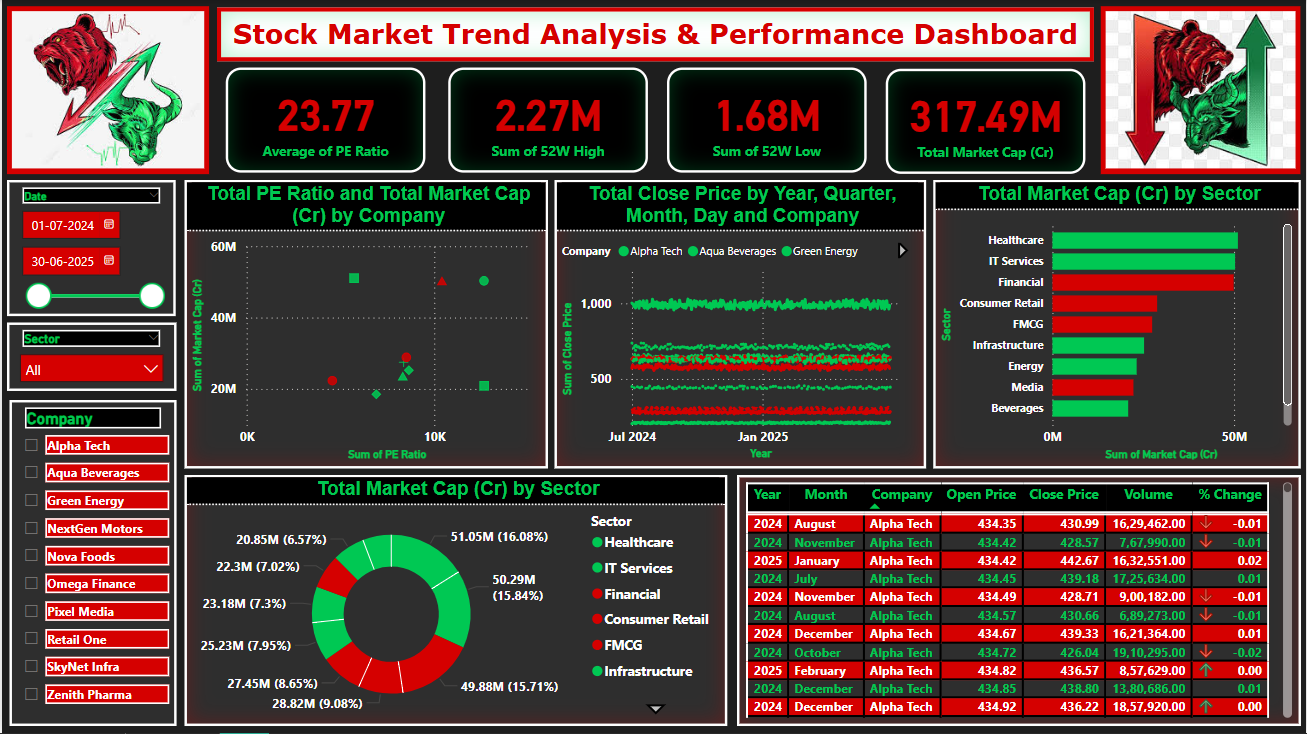

Layout of this report page (visuals, bound fields, positions):
{"tool":"powerbi","page":{"name":"Page 1","canvas":[1280,720],"ordinal":0},"visuals":[{"type":"lineChart","title":"Total Close Price by Year, Quarter, Month, Day and Company","fields":{"Y":["Sum(Stockmarket.Close Price)"],"Series":["Stockmarket.Company"],"Category":["Stockmarket.Date.Variation.Date Hierarchy.Year","Stockmarket.Date.Variation.Date Hierarchy.Quarter","Stockmarket.Date.Variation.Date Hierarchy.Month","Stockmarket.Date.Variation.Date Hierarchy.Day"]},"box":[542.3,176.7,364.4,283.4],"z":0},{"type":"clusteredBarChart","title":"Total Market Cap (Cr) by Sector","fields":{"Category":["Stockmarket.Sector"],"Y":["Sum(Stockmarket.Market Cap (Cr))"]},"box":[914.1,176.7,360.7,283.4],"z":1000},{"type":"tableEx","fields":{"Values":["Stockmarket.Date.Variation.Date Hierarchy.Year","Stockmarket.Date.Variation.Date Hierarchy.Month","Stockmarket.Company","Stockmarket.Open Price","Stockmarket.Close Price","Stockmarket.Volume","Stockmarket.% Change"]},"box":[721.5,466.3,553.4,246.6],"z":2000},{"type":"card","fields":{"Values":["Avg(Stockmarket.PE Ratio)"]},"box":[219.6,66.3,196.3,103.1],"z":4000},{"type":"donutChart","fields":{"Y":["Sum(Stockmarket.Market Cap (Cr))"],"Category":["Stockmarket.Sector"]},"box":[179.1,466.3,532.5,246.6],"z":7000},{"type":"scatterChart","title":"Total PE Ratio and Total  Market Cap (Cr) by Company","fields":{"X":["Sum(Stockmarket.PE Ratio)"],"Y":["Sum(Stockmarket.Market Cap (Cr))"],"Category":["Stockmarket.Company"]},"box":[179.1,176.7,357.1,283.4],"z":8000},{"type":"slicer","fields":{"Values":["Stockmarket.Company"]},"box":[7.4,392.6,164,320],"z":9000},{"type":"slicer","fields":{"Values":["Stockmarket.Sector"]},"box":[5,317,166,67],"z":10000},{"type":"slicer","fields":{"Values":["Stockmarket.Date"]},"box":[4.9,176.7,165.6,133.7],"z":11000},{"type":"image","box":[1078.5,6.1,196.3,164.4],"z":12000},{"type":"image","box":[4.9,6.1,198.8,164.4],"z":13000},{"type":"textbox","box":[211,7,861,52.8],"z":14000},{"type":"card","fields":{"Values":["Sum(Stockmarket.52W High)"]},"box":[438,66.3,196,103],"z":14003},{"type":"card","fields":{"Values":["Sum(Stockmarket.52W Low)"]},"box":[652.8,66.3,196.3,103.1],"z":14004},{"type":"card","fields":{"Values":["Sum(Stockmarket.Market Cap (Cr))"]},"box":[867.5,67.5,196.3,103.1],"z":14005}]}

Visuals, with their boxes in screenshot pixels (x1, y1, x2, y2), scaled from the page's 1280x720 canvas onto the 1307x734 screenshot:
"Total Close Price by Year, Quarter, Month, Day and Company" lineChart: 554,180,926,469
"Total Market Cap (Cr) by Sector" clusteredBarChart: 933,180,1302,469
tableEx - Stockmarket.Date.Variation.Date Hierarchy.Year x Stockmarket.Date.Variation.Date Hierarchy.Month: 737,475,1302,727
card - Avg(Stockmarket.PE Ratio): 224,68,425,173
donutChart - Sum(Stockmarket.Market Cap (Cr)) x Stockmarket.Sector: 183,475,727,727
"Total PE Ratio and Total  Market Cap (Cr) by Company" scatterChart: 183,180,548,469
slicer - Stockmarket.Company: 8,400,175,726
slicer - Stockmarket.Sector: 5,323,175,391
slicer - Stockmarket.Date: 5,180,174,316
image: 1101,6,1302,174
image: 5,6,208,174
textbox: 215,7,1095,61
card - Sum(Stockmarket.52W High): 447,68,647,173
card - Sum(Stockmarket.52W Low): 667,68,867,173
card - Sum(Stockmarket.Market Cap (Cr)): 886,69,1086,174
